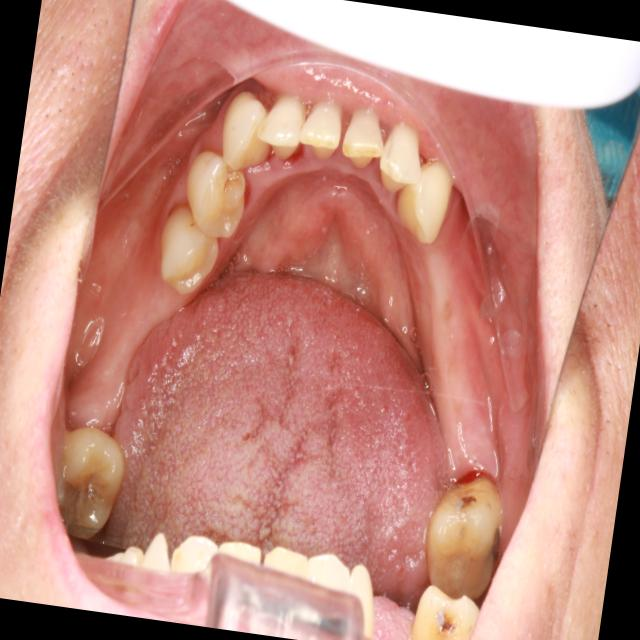tooth: (411, 456, 517, 605), (46, 414, 130, 552), (147, 193, 229, 303), (174, 138, 253, 245), (400, 141, 464, 256), (207, 85, 285, 179), (373, 105, 434, 201), (254, 80, 313, 168), (332, 94, 393, 177), (295, 87, 349, 162)
